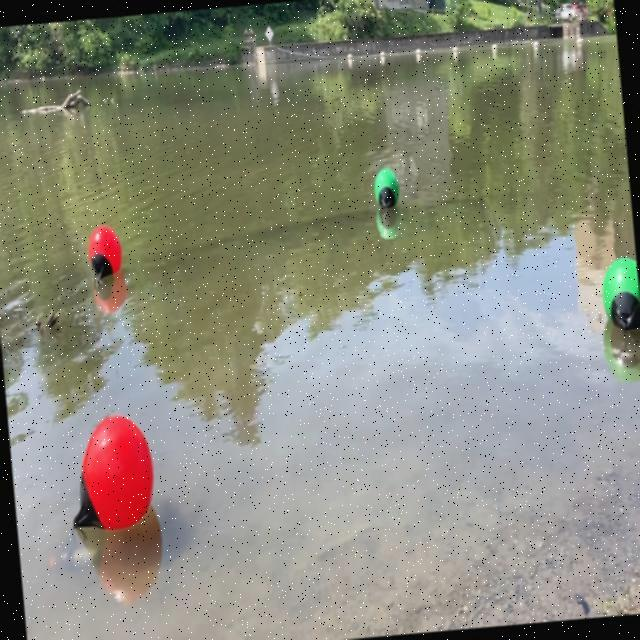buoy: (62, 406, 162, 536), (597, 253, 640, 339), (84, 221, 124, 288), (372, 164, 402, 212)
